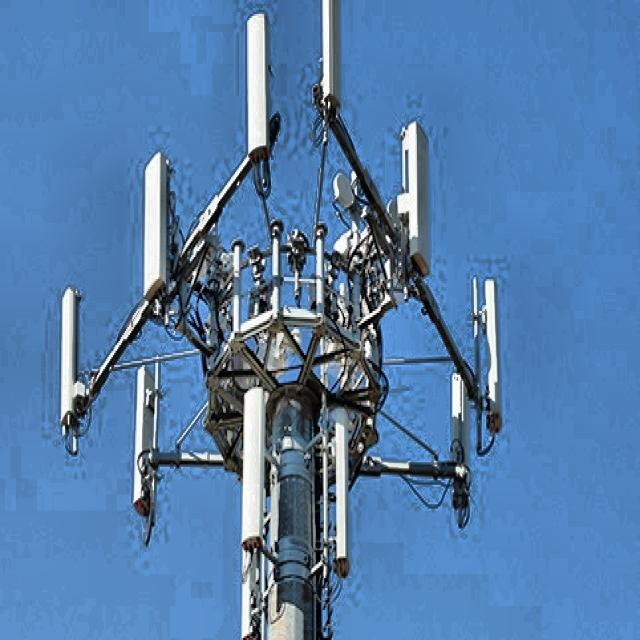antenna: (397, 121, 430, 275), (132, 362, 159, 544), (473, 278, 502, 434), (241, 387, 265, 551), (143, 152, 168, 298), (60, 287, 83, 435), (330, 406, 349, 577), (247, 13, 269, 159), (450, 373, 469, 527), (321, 0, 339, 107)
